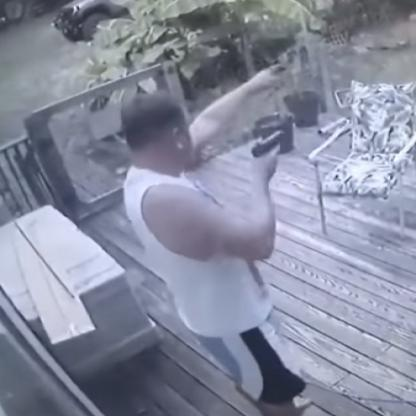criminal: (123, 64, 315, 416)
weapon: (248, 125, 289, 161)
